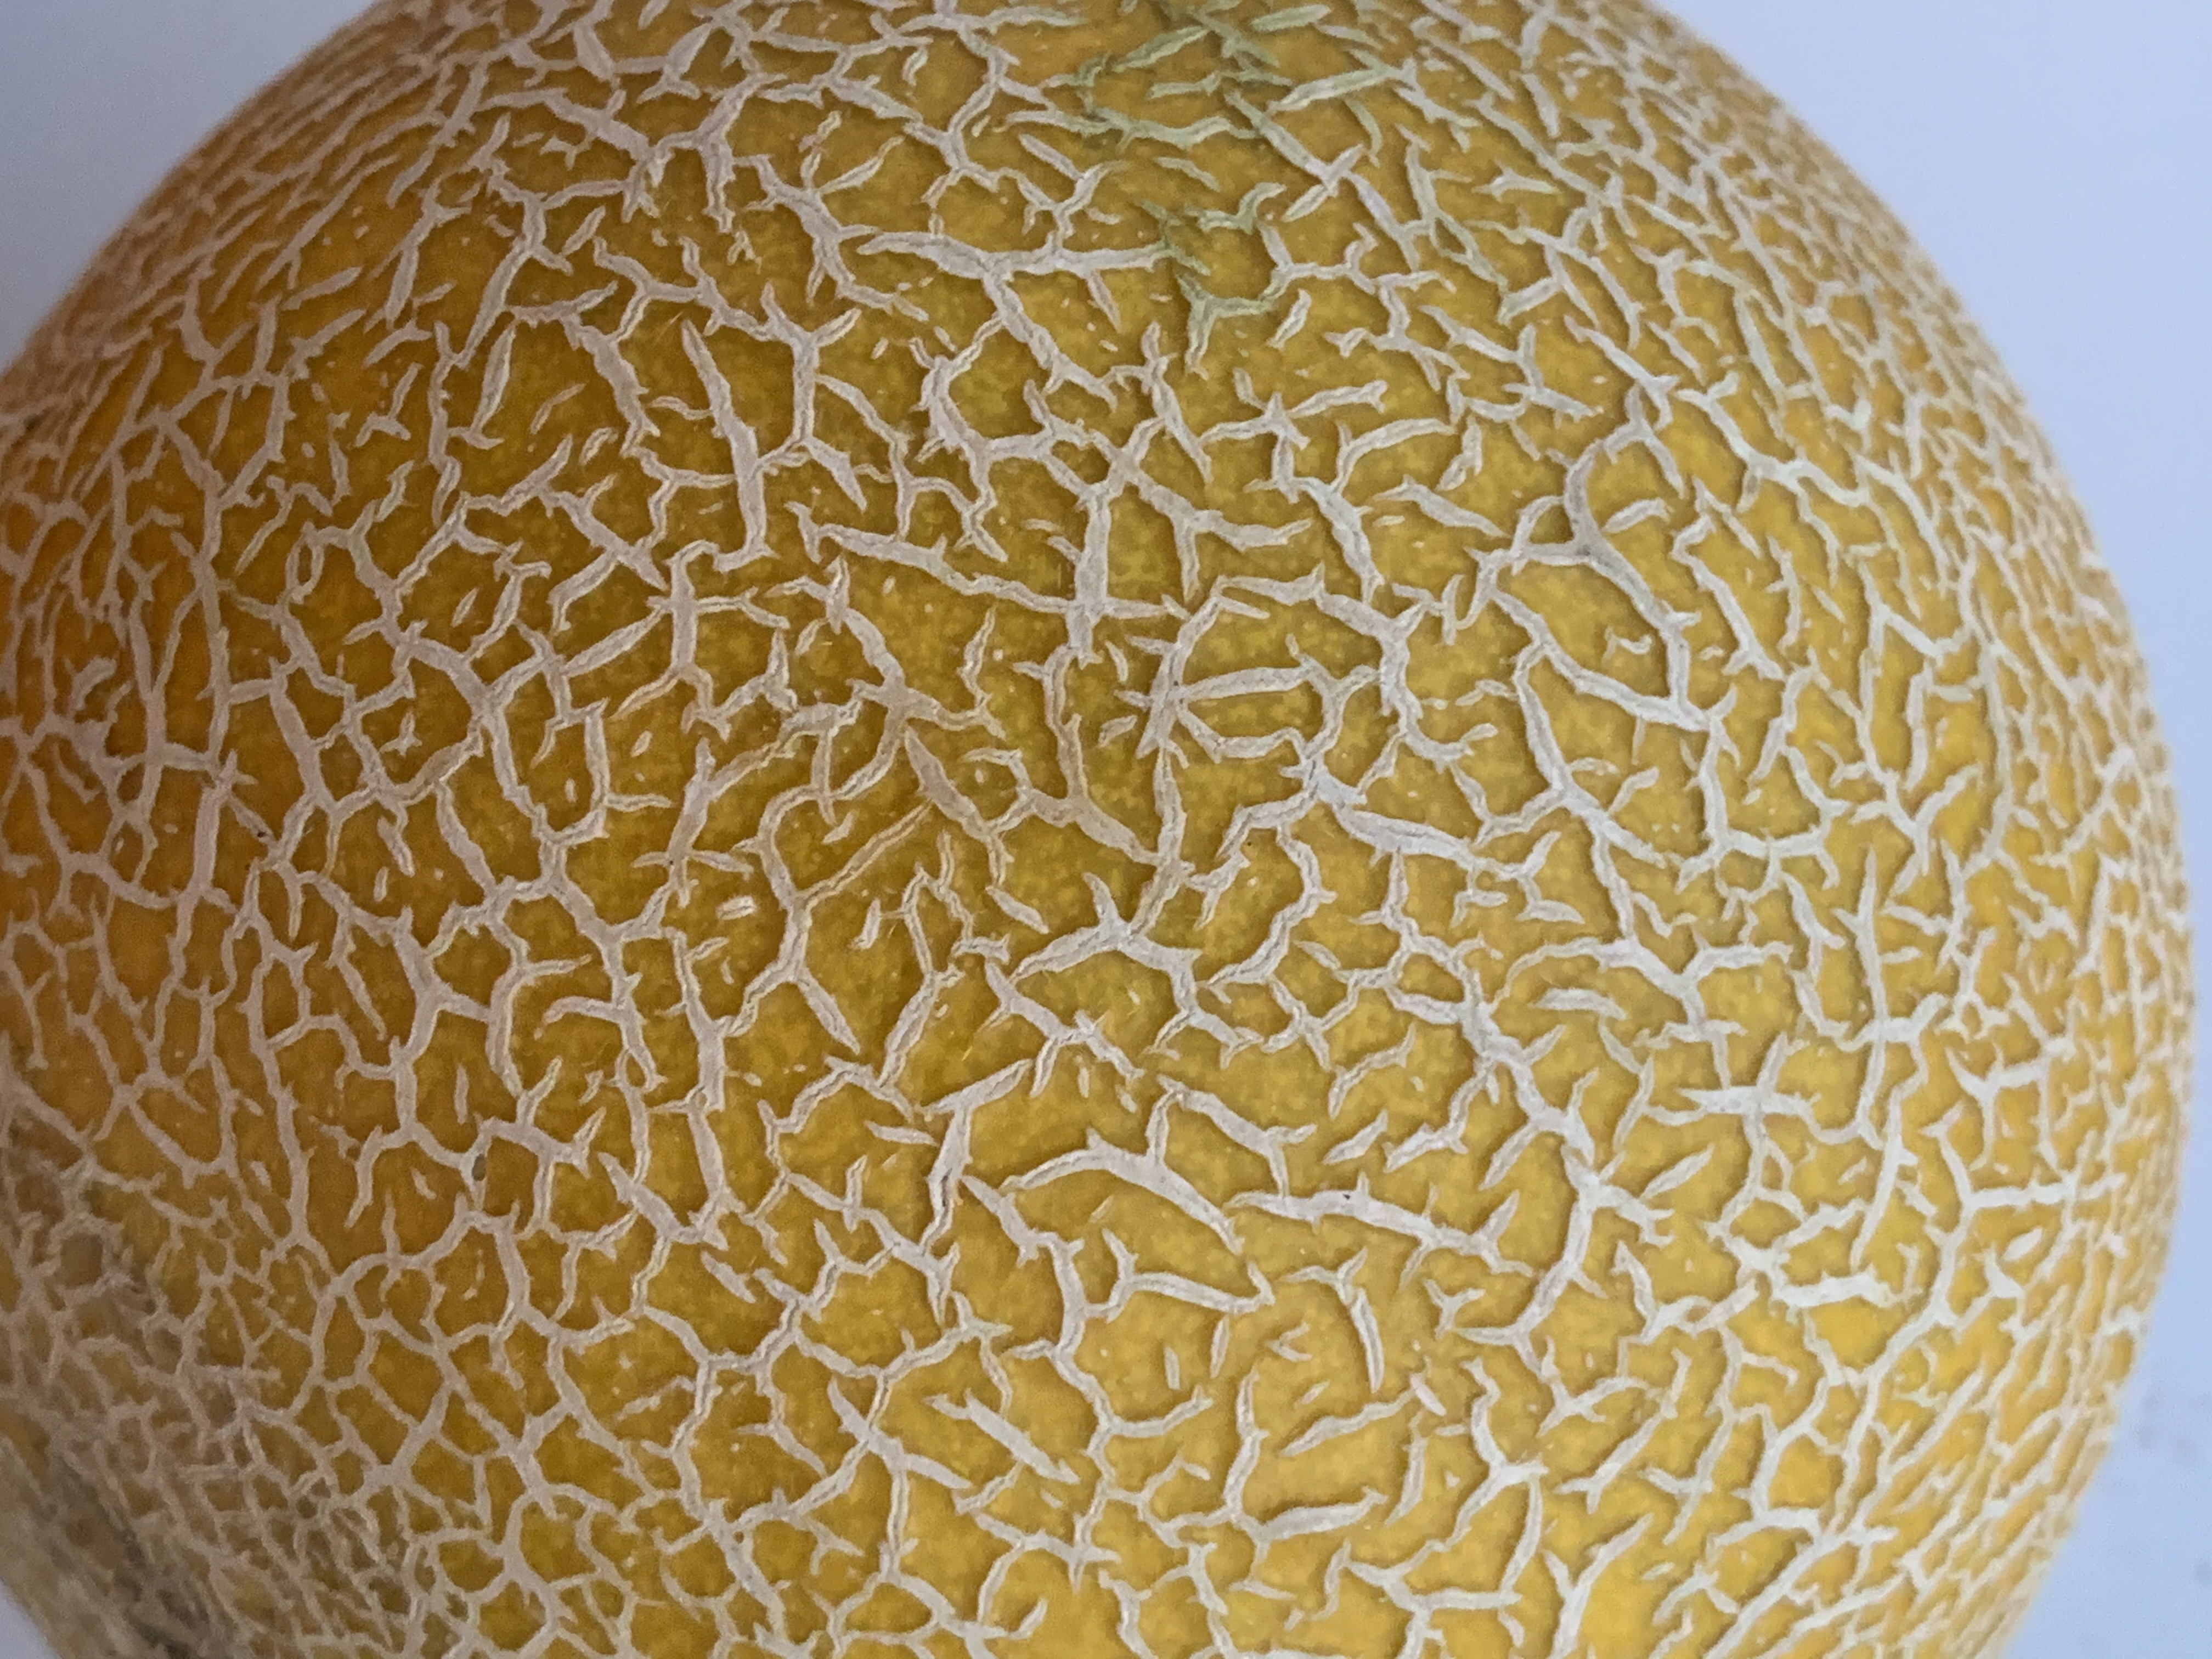galia melon: (9, 12, 2156, 1659)
